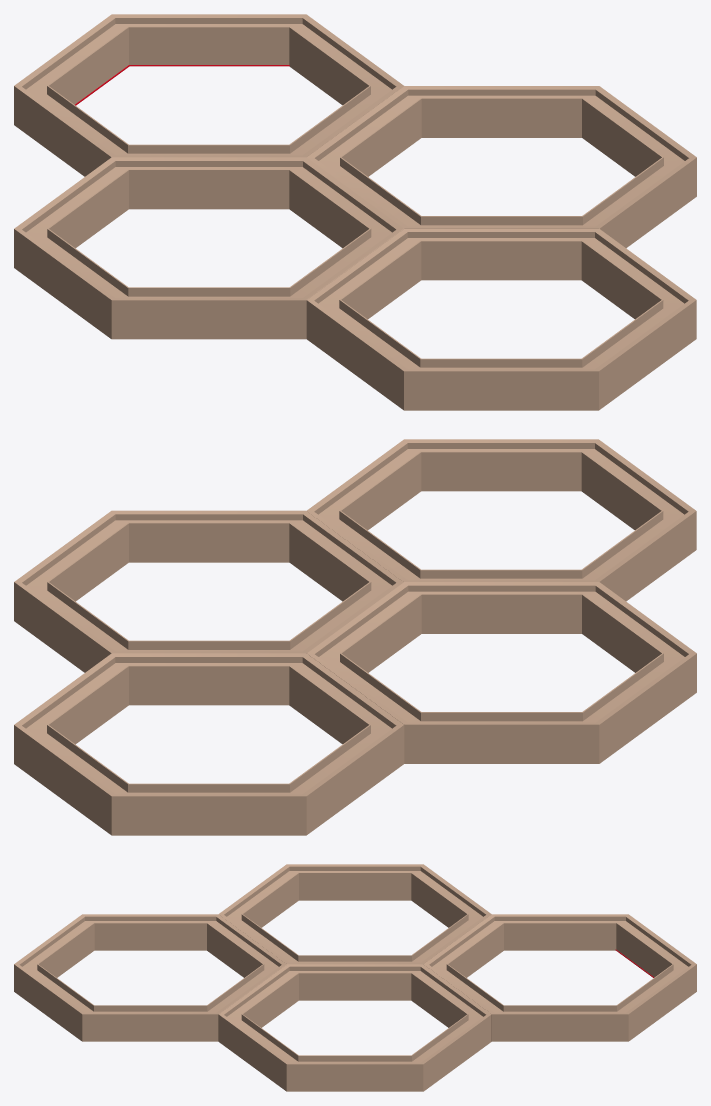
Rendered from ceilinglights.fbx.
3 views of the same model, one above another, from view 1: azimuth 30°, elevation 25°; view 2: azimuth 150°, elevation 25°; view 3: azimuth 270°, elevation 25° (orthographic). The views are drawn at different scales.
Visible parts, largest first — view 1: Cylinder, Cylinder.003, Cylinder.002; view 2: Cylinder, Cylinder.002, Cylinder.003; view 3: Cylinder, Cylinder.002, Cylinder.003.
Part boxes in pixels (<box>): Cylinder: <box>14,86,696,339</box>; Cylinder.003: <box>306,228,696,410</box>; Cylinder.002: <box>14,14,403,176</box>; Cylinder: <box>14,510,696,763</box>; Cylinder.002: <box>14,653,404,835</box>; Cylinder.003: <box>307,439,696,601</box>; Cylinder: <box>218,864,491,1091</box>; Cylinder.002: <box>423,914,696,1041</box>; Cylinder.003: <box>14,914,286,1041</box>.
Bounding box in the file's own units: 234 × 15.01 × 338.
